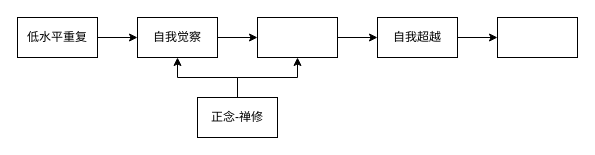
Image size: 595x155. Some labels were removed from this diagram. Each missing label, with the centre of its shape:
"无我无相" belongs at (537,37).
"自我和解" belongs at (297,37).
